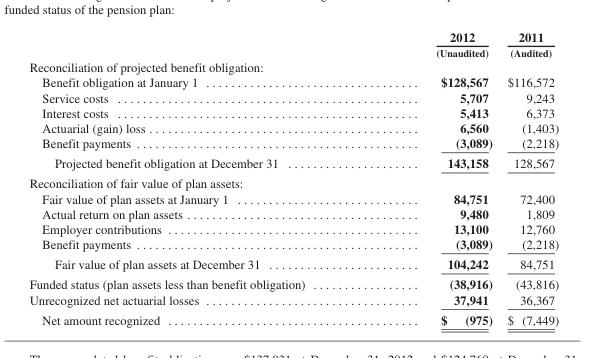table: (28, 29, 558, 326)
table column: (28, 29, 370, 326), (370, 29, 499, 326), (499, 29, 558, 326)
table column header: (28, 29, 558, 59)
table projected row header: (28, 173, 558, 190), (28, 59, 558, 74)
table row: (28, 29, 558, 59), (28, 152, 558, 173), (28, 253, 558, 273), (28, 134, 558, 152), (28, 235, 558, 253), (28, 273, 558, 291), (28, 291, 558, 309), (28, 173, 558, 190), (28, 309, 558, 326), (28, 59, 558, 74), (28, 74, 558, 89), (28, 89, 558, 104), (28, 104, 558, 119), (28, 119, 558, 134), (28, 190, 558, 205), (28, 205, 558, 220), (28, 220, 558, 235)
